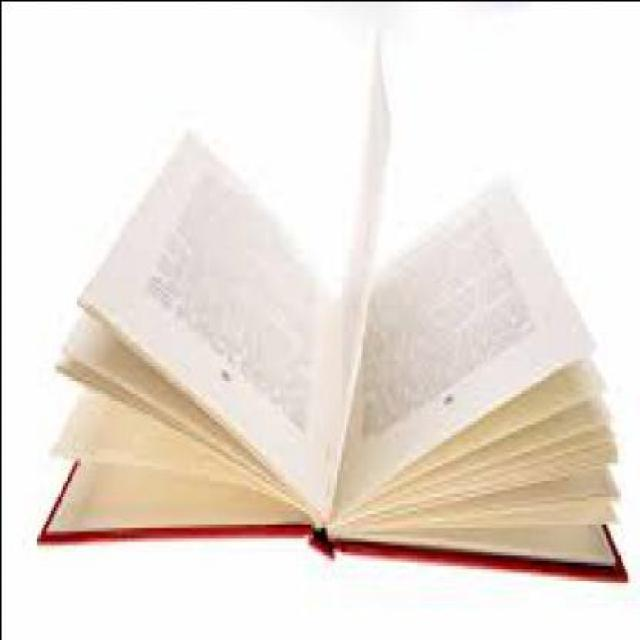PAPER: (30, 31, 624, 575), (76, 125, 322, 512), (323, 169, 594, 513), (318, 28, 384, 520)
